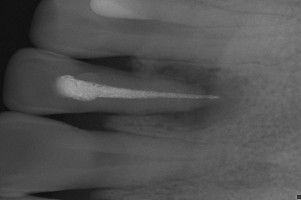Furcation Involvement: (157, 63, 261, 128)
